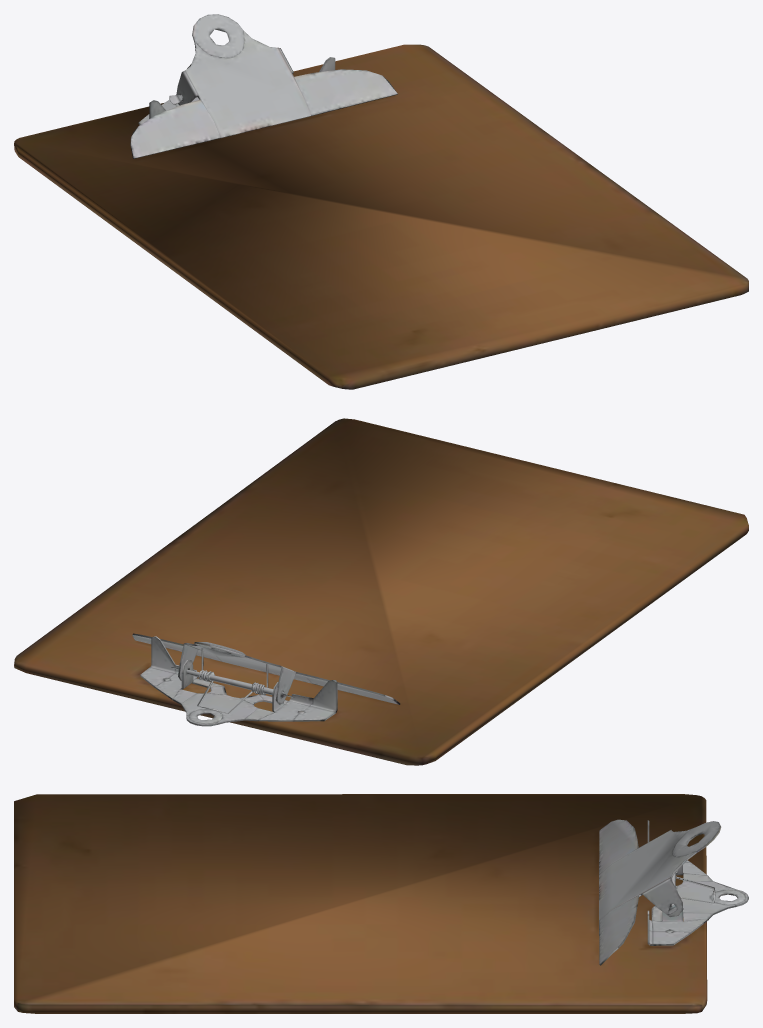
The model's file is clipboard.glb.
3 renders of one model, top to bottom at view 1: azimuth 30°, elevation 25°; view 2: azimuth 150°, elevation 25°; view 3: azimuth 270°, elevation 25°, orthographic. The views are drawn at different scales.
Parts seen in each view (by area): view 1: clipboard; view 2: clipboard; view 3: clipboard.
Part boxes in pixels (x1,y1,x2,y2): clipboard: [14, 14, 748, 389]; clipboard: [14, 418, 748, 765]; clipboard: [14, 794, 748, 1013].
Size of the model in its own units: 0.2281 by 0.042 by 0.336.
Materials: 1 (1 with a texture image).
